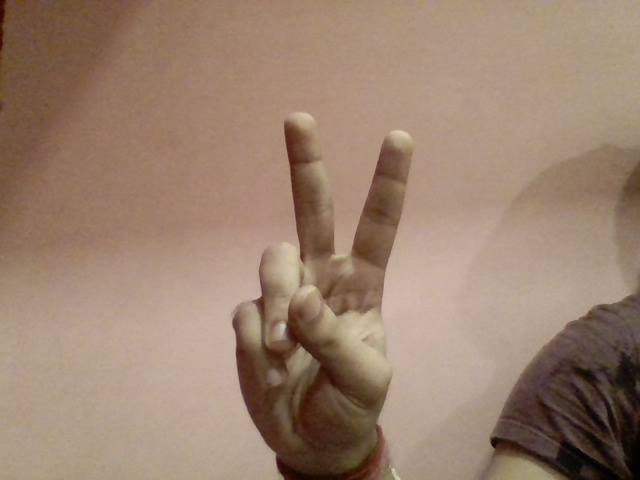v: (221, 93, 427, 468)
